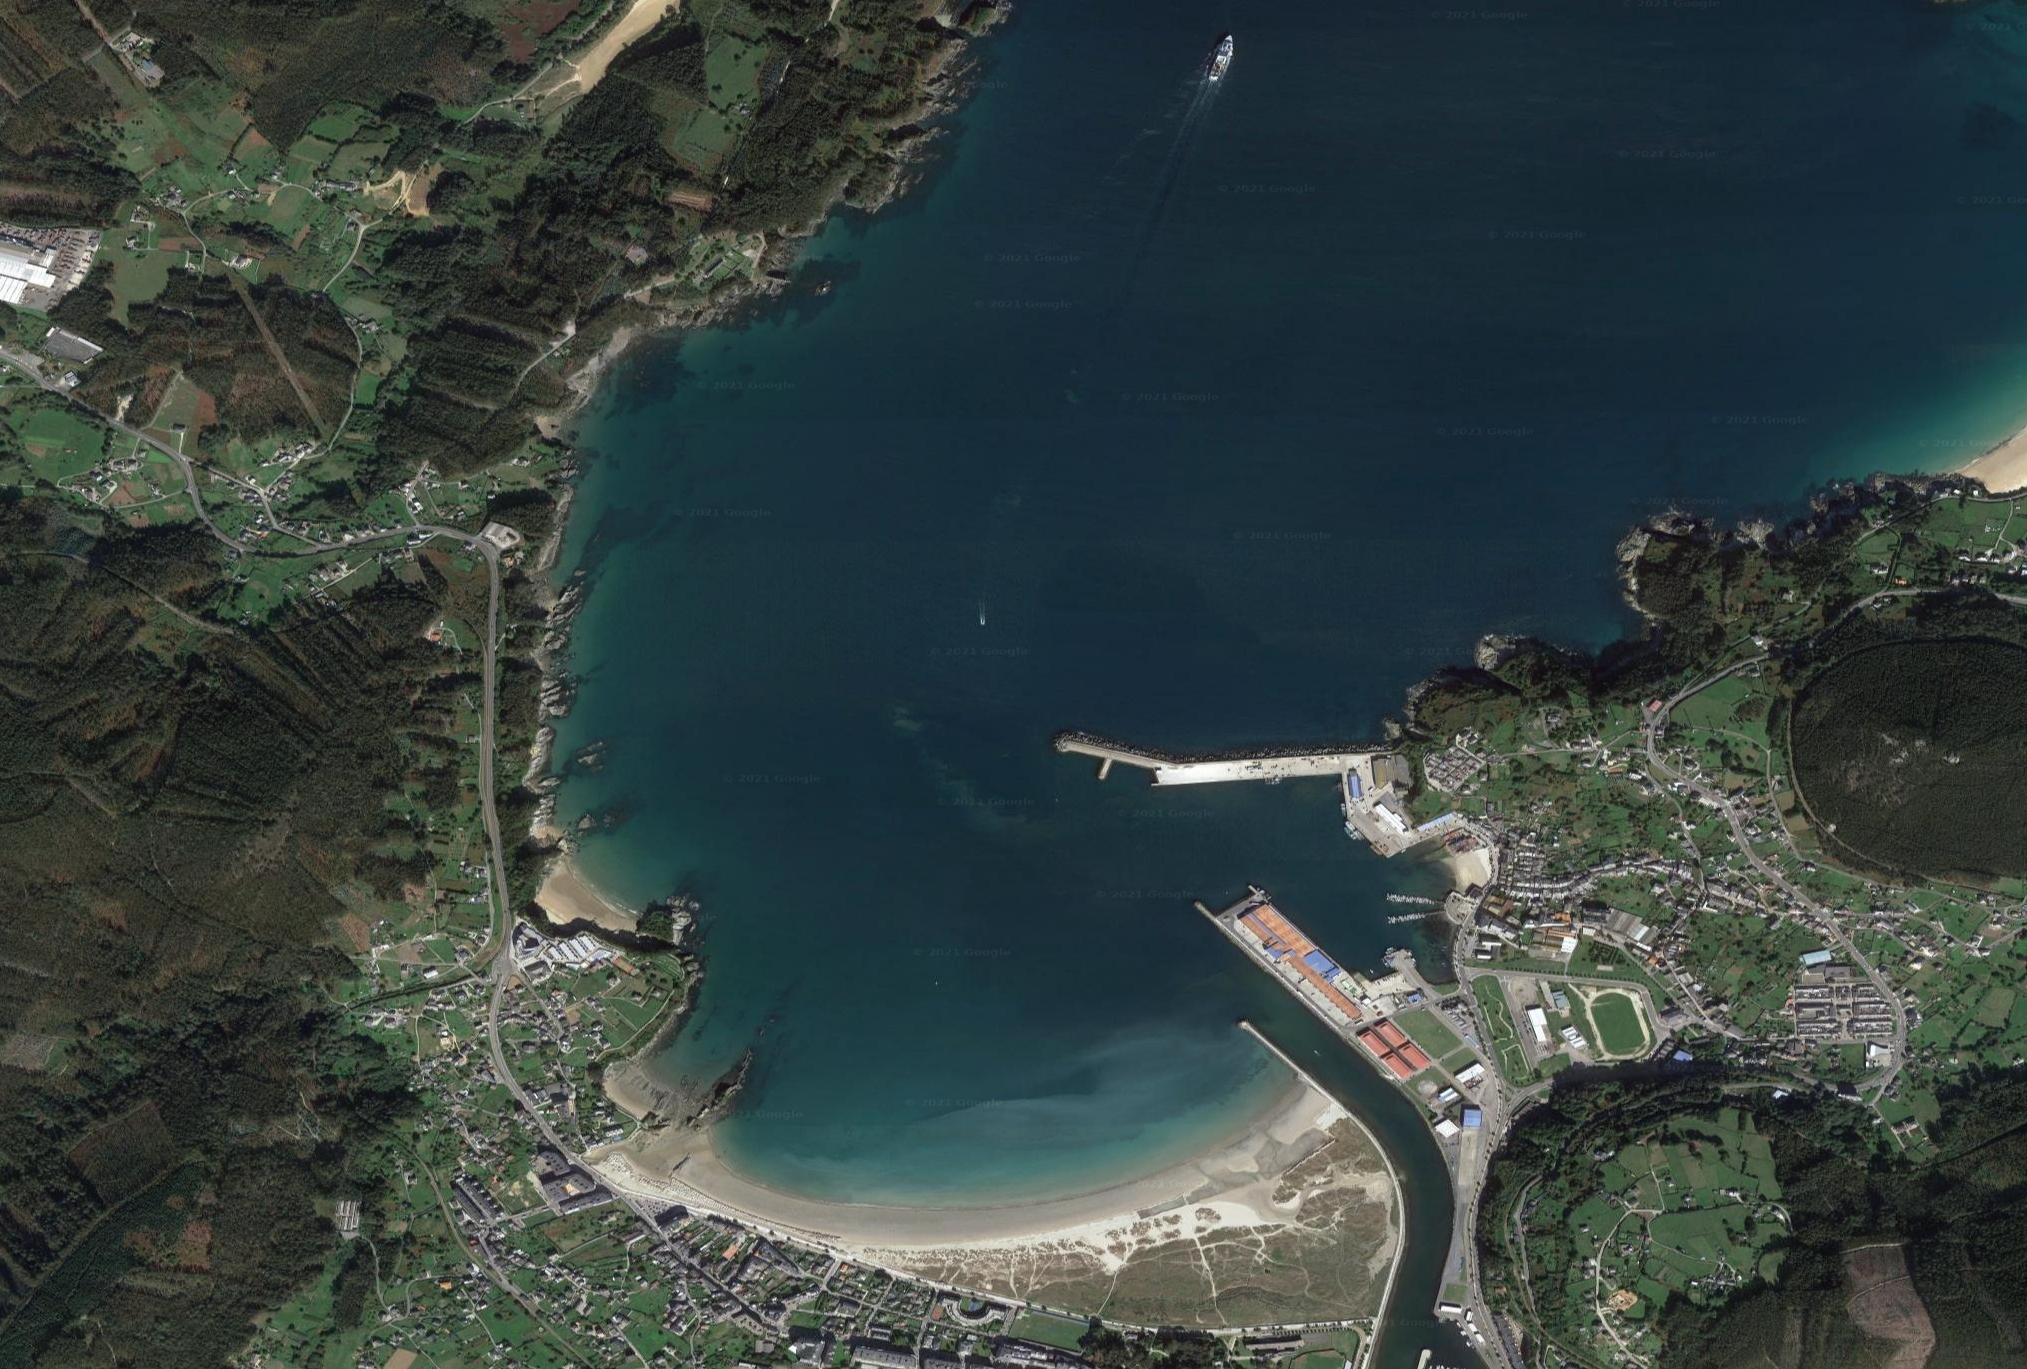harbor: (1048, 707, 1582, 1170)
industrial: (2, 215, 98, 330)
motorway: (2, 348, 180, 463), (474, 591, 527, 941), (289, 513, 521, 590), (182, 463, 292, 571)
